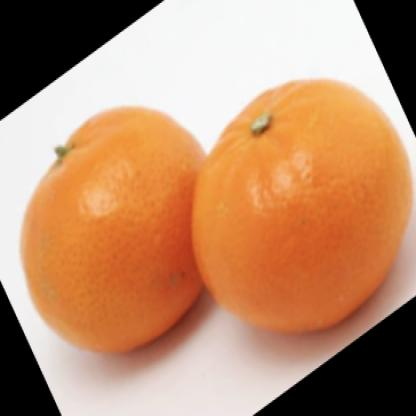fresh: (20, 80, 415, 364)
